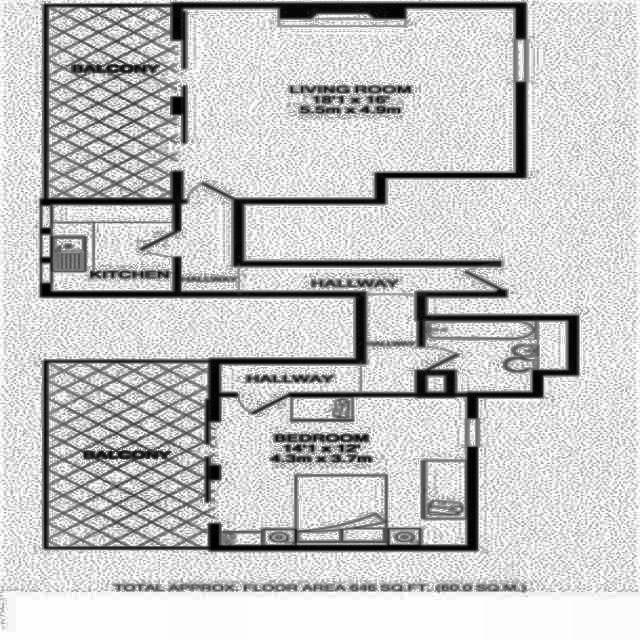room: (183, 9, 514, 198), (210, 393, 466, 545), (173, 198, 503, 291), (48, 363, 211, 546), (48, 6, 187, 199), (221, 291, 417, 393), (417, 321, 566, 393), (53, 205, 173, 291)
